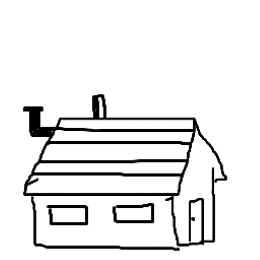bottom_placed_house: (0, 0, 259, 259)
chimney: (13, 88, 59, 146), (79, 81, 111, 129)
door: (183, 195, 210, 251)
open_window: (44, 203, 96, 232), (106, 201, 158, 228)
roof: (17, 114, 231, 197)
wall: (27, 177, 182, 254)
